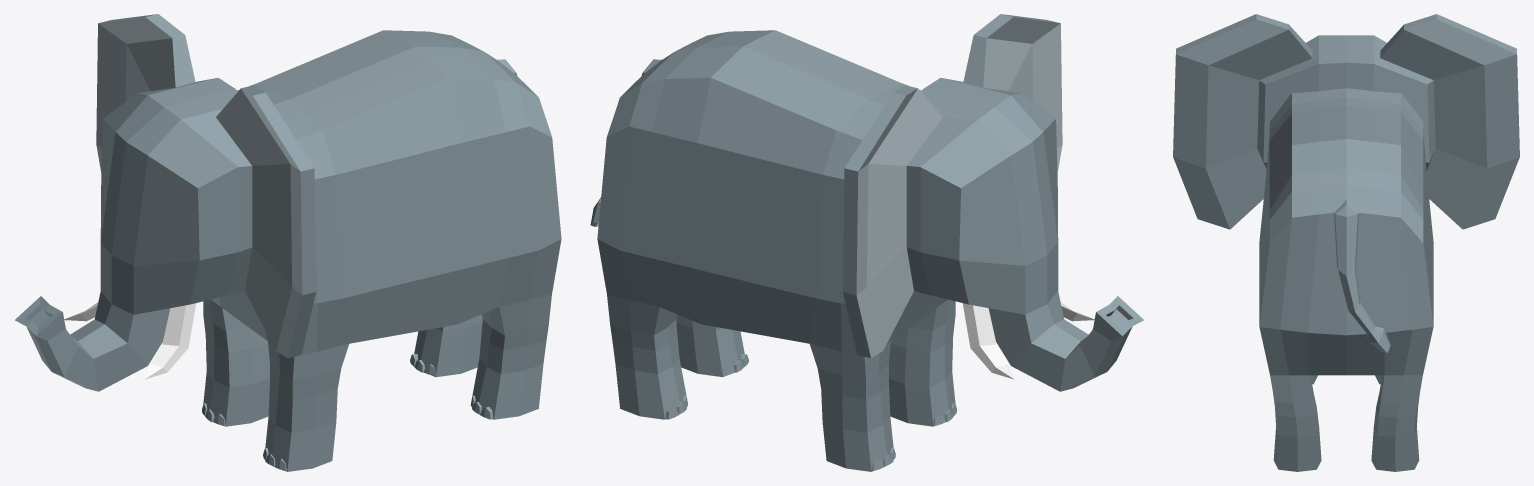
The model's file is Elephant.glb.
3 views of the same model, side by side, from view 1: azimuth 30°, elevation 25°; view 2: azimuth 150°, elevation 25°; view 3: azimuth 270°, elevation 25° (orthographic). The views are drawn at different scales.
Visible parts, largest first — view 1: node-0; view 2: node-0; view 3: node-0.
Boxes of the visible parts, box(x1,y1,x2,y2) form: node-0: box(15, 14, 561, 471); node-0: box(590, 14, 1143, 471); node-0: box(1173, 14, 1519, 471).
Bounding box in the file's own units: 265 × 192 × 181.
